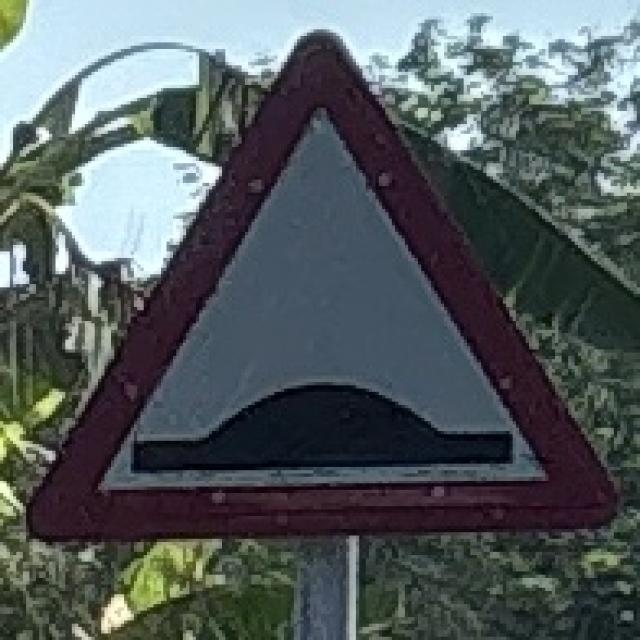HUMP_OR_ROUGH_ROAD: (22, 29, 627, 549)
